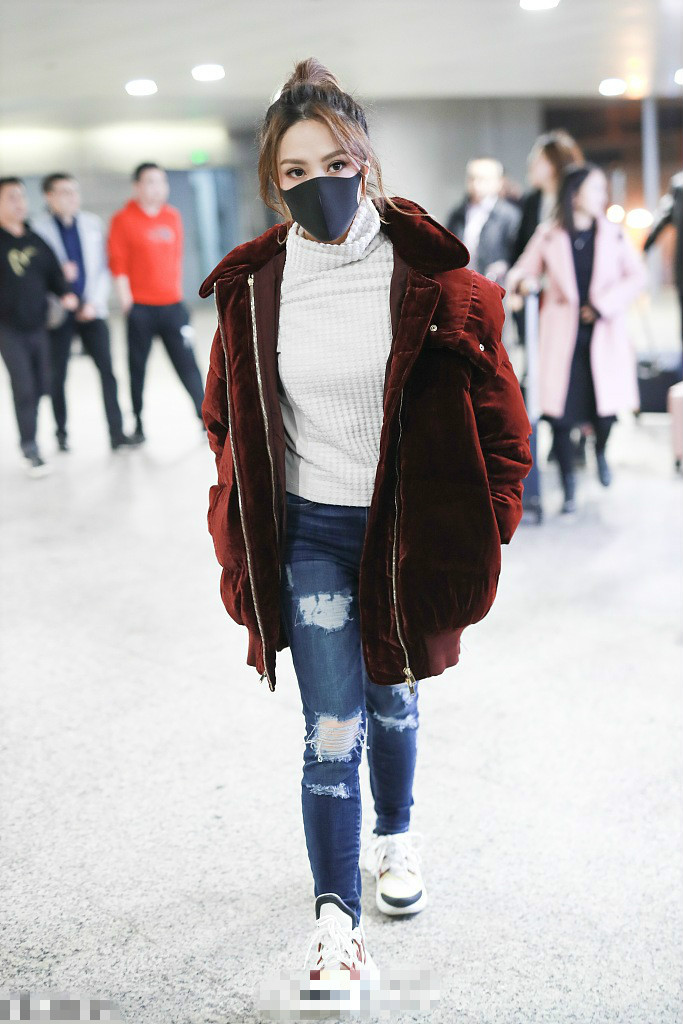mask: (275, 113, 365, 242)
